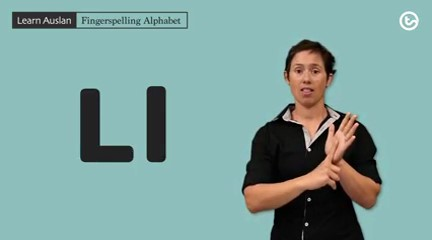L: (305, 109, 359, 193)
